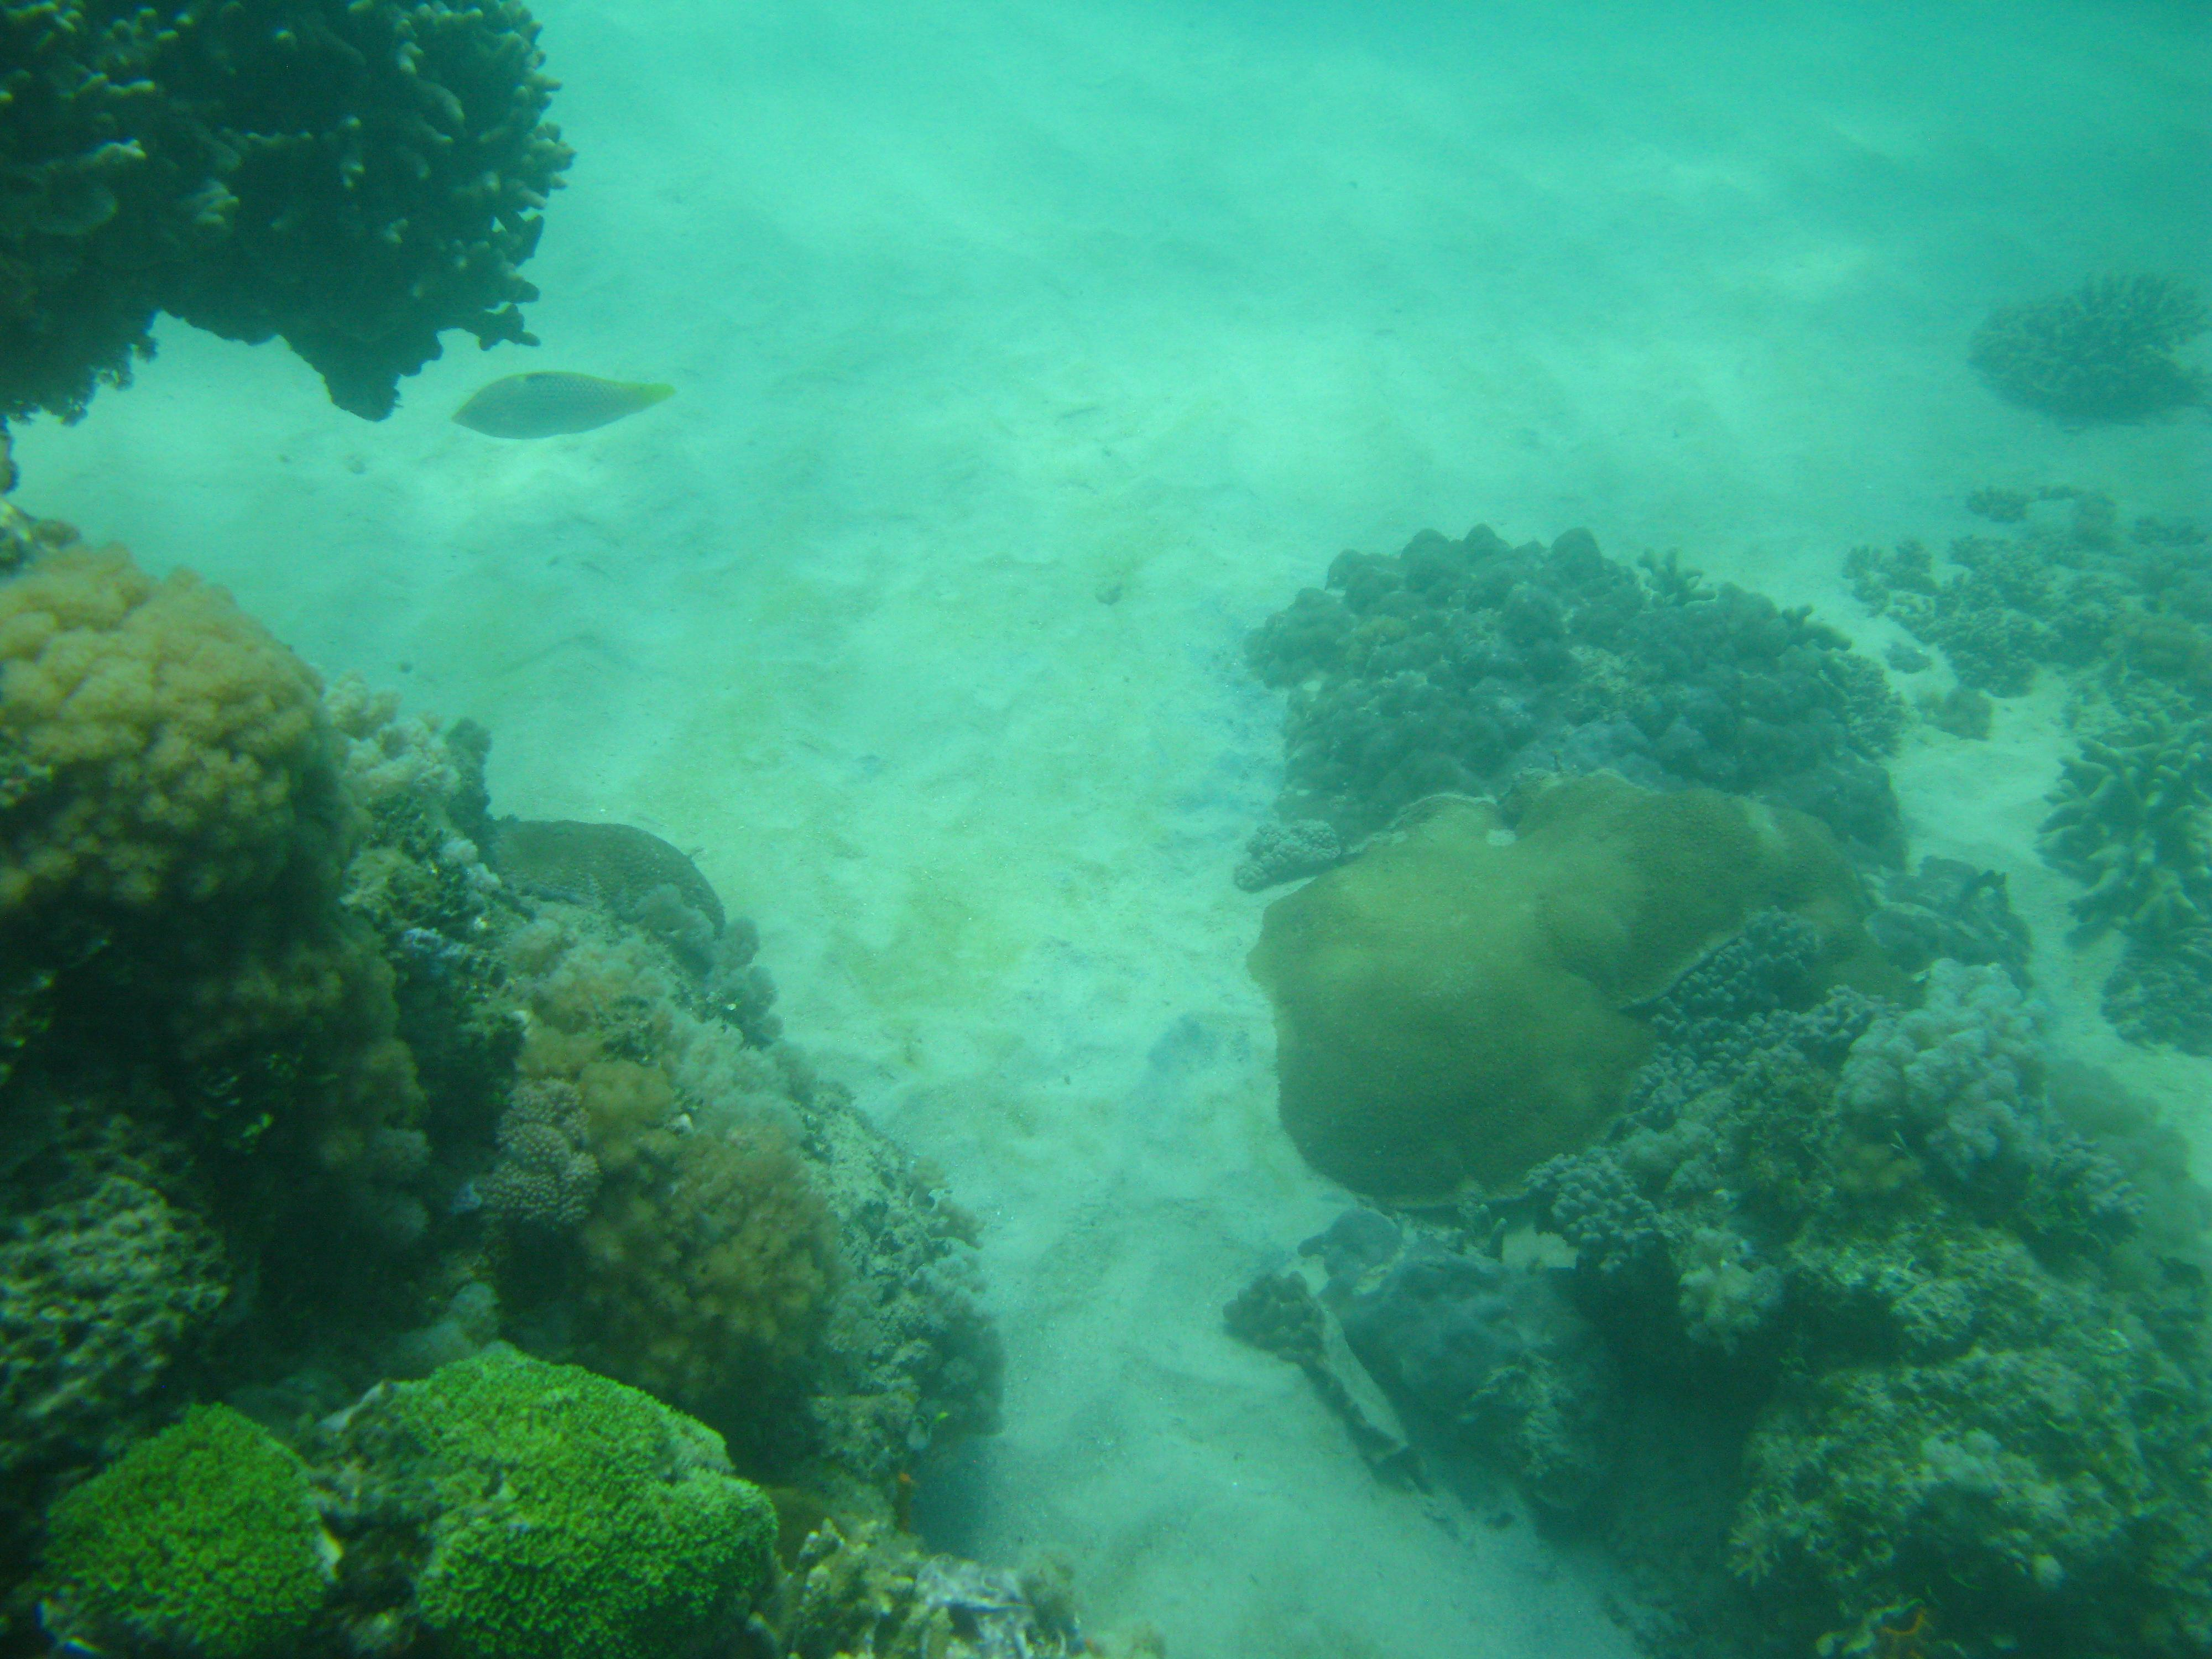Halichoeres hortulanus: (421, 350, 712, 467)
